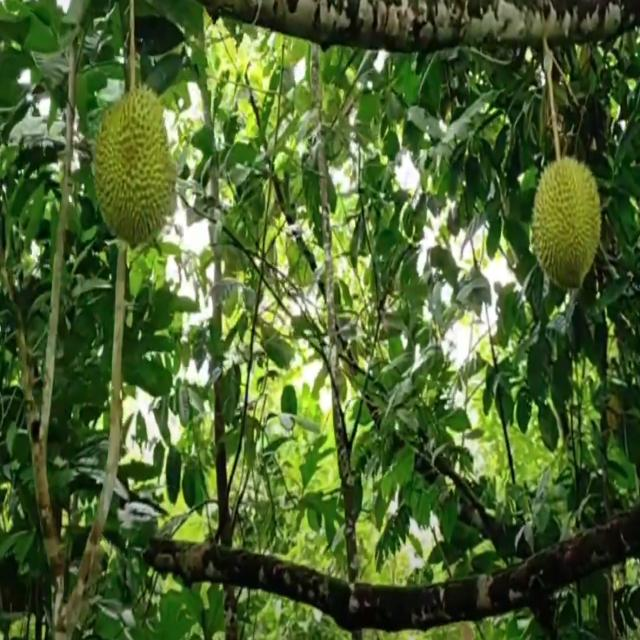immature: (93, 87, 175, 249), (530, 153, 604, 295)
